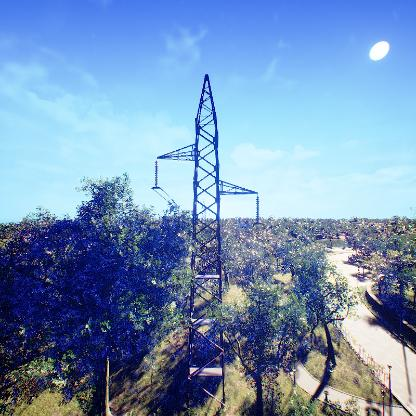tower: (147, 69, 266, 416)
